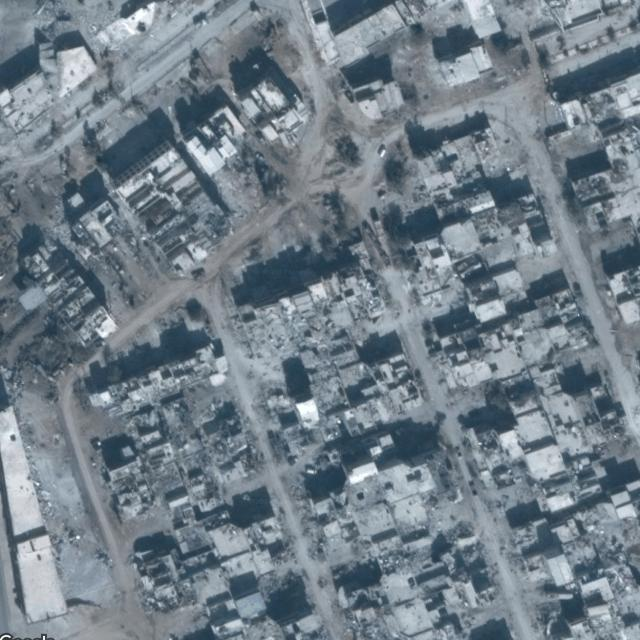damaged_building: (72, 296, 262, 620), (274, 423, 508, 640), (388, 117, 526, 337), (227, 233, 395, 410), (150, 150, 288, 274), (565, 500, 640, 640)
